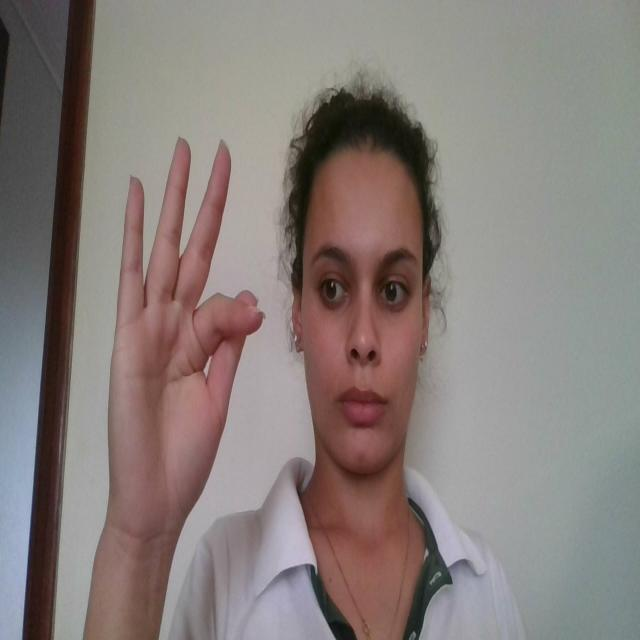F: (109, 128, 265, 523)
